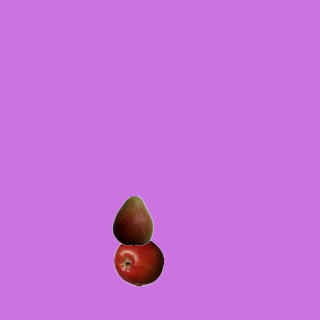Apple Braeburn: (113, 236, 163, 286)
Pear Forelle: (107, 195, 157, 245)
